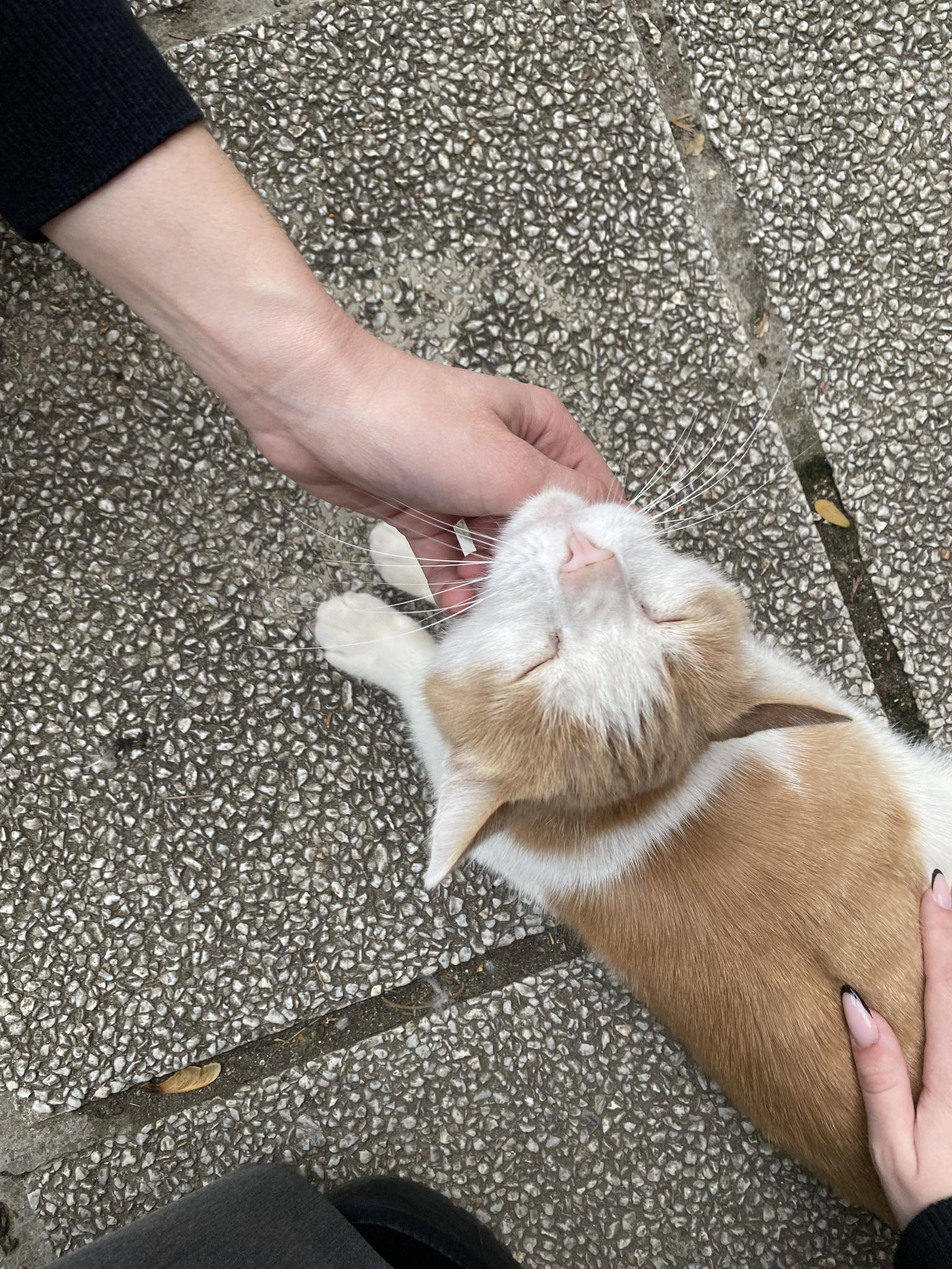macka: (320, 483, 952, 1231)
